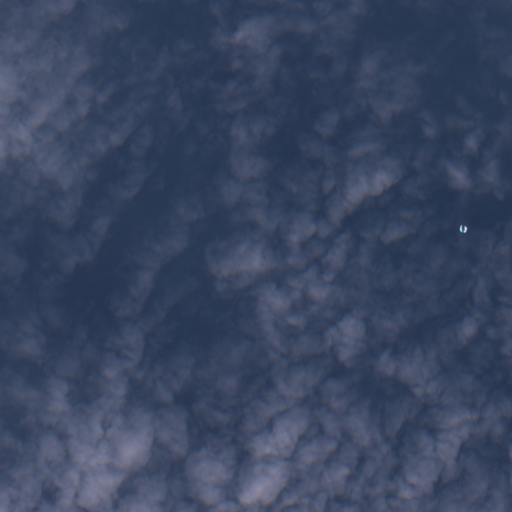Iceberg: (460, 225, 467, 232)
